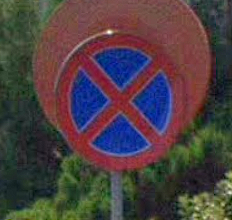oprirea_interzisa: (54, 31, 186, 171)
